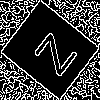Z: (25, 25, 79, 78)
